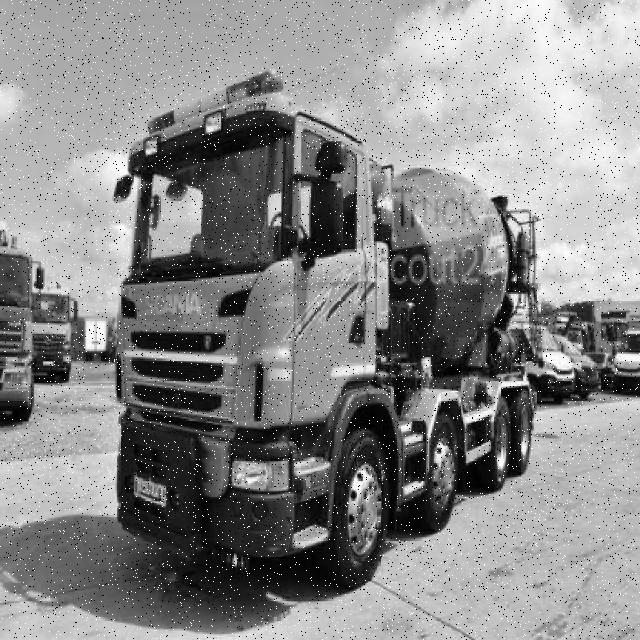Concrete Mixer: (113, 71, 544, 593)
